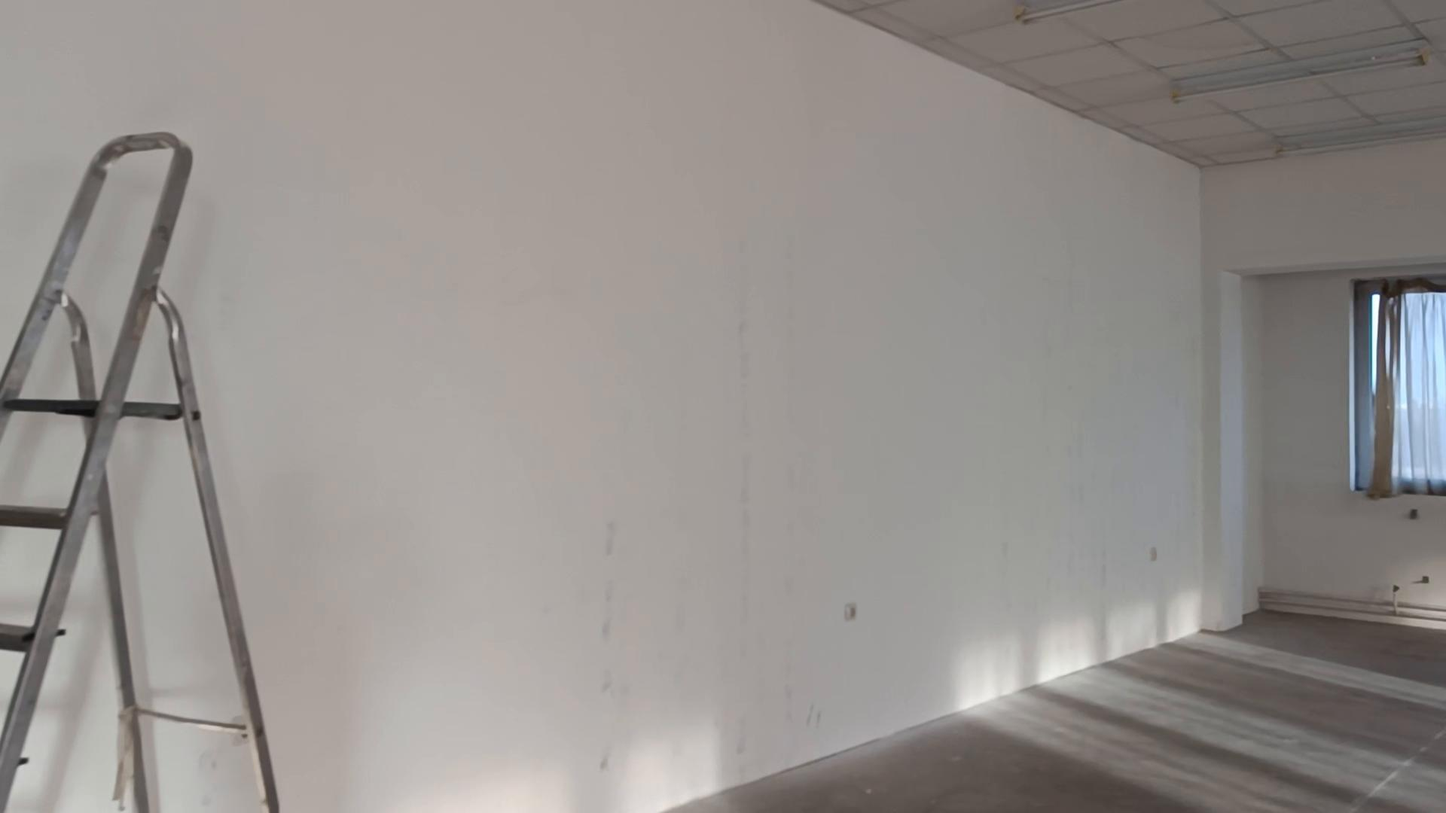ceiling: (818, 0, 1445, 166)
floor: (670, 610, 1445, 812)
wall: (0, 0, 1445, 812), (1248, 276, 1443, 601), (113, 422, 236, 716), (12, 547, 113, 812)
